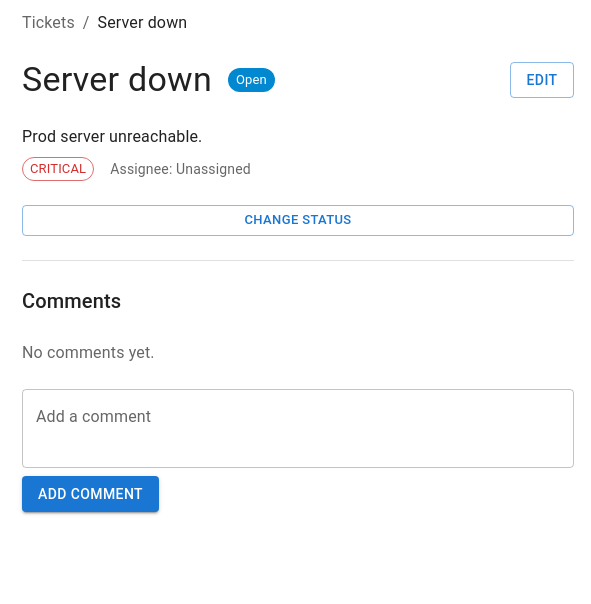
Status transitions › rejects a transition the backend no longer allows and keeps the displayed status unchanged (FR-010, FR-011)
Click the button "Change Status" at (298, 220), box [22,205,574,236]
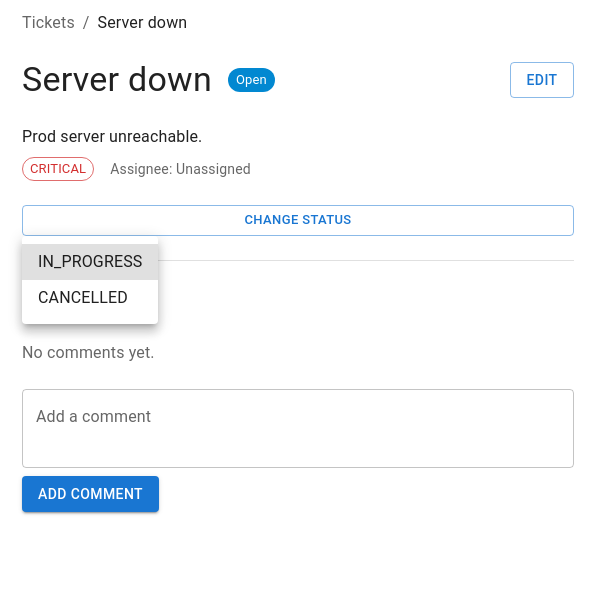
Click the menu item "IN_PROGRESS" at (90, 262), box [22,244,158,280]
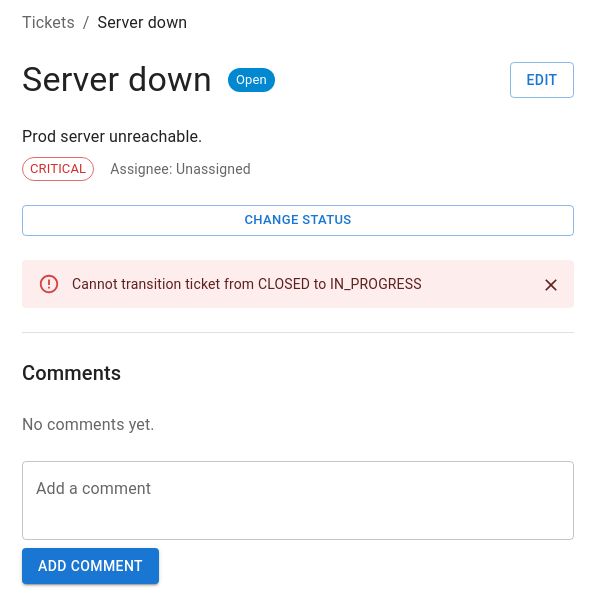
Expected: the text "Open" is shown, [236,72,267,87]
Now the text "Cannot transition ticket from CLOSED to IN_PROGRESS" is shown, box [72,276,422,292]
